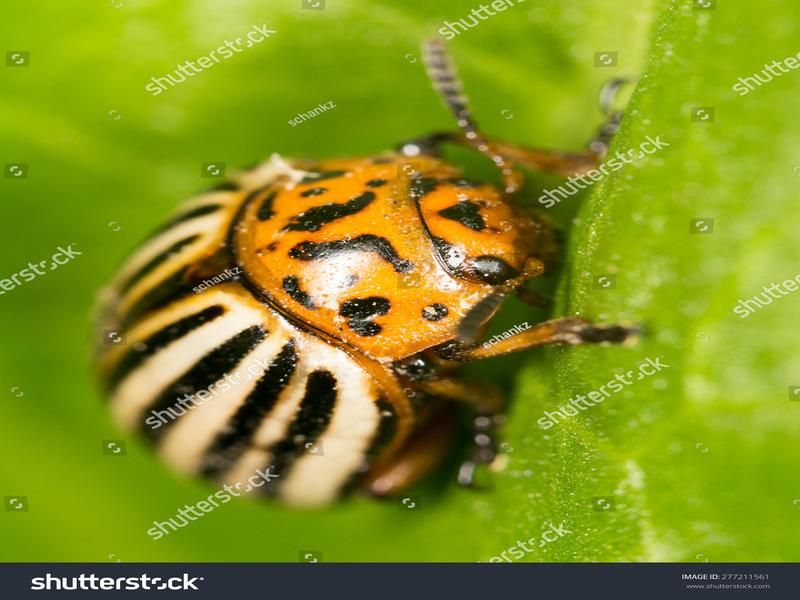hrosc: (73, 126, 570, 505)
